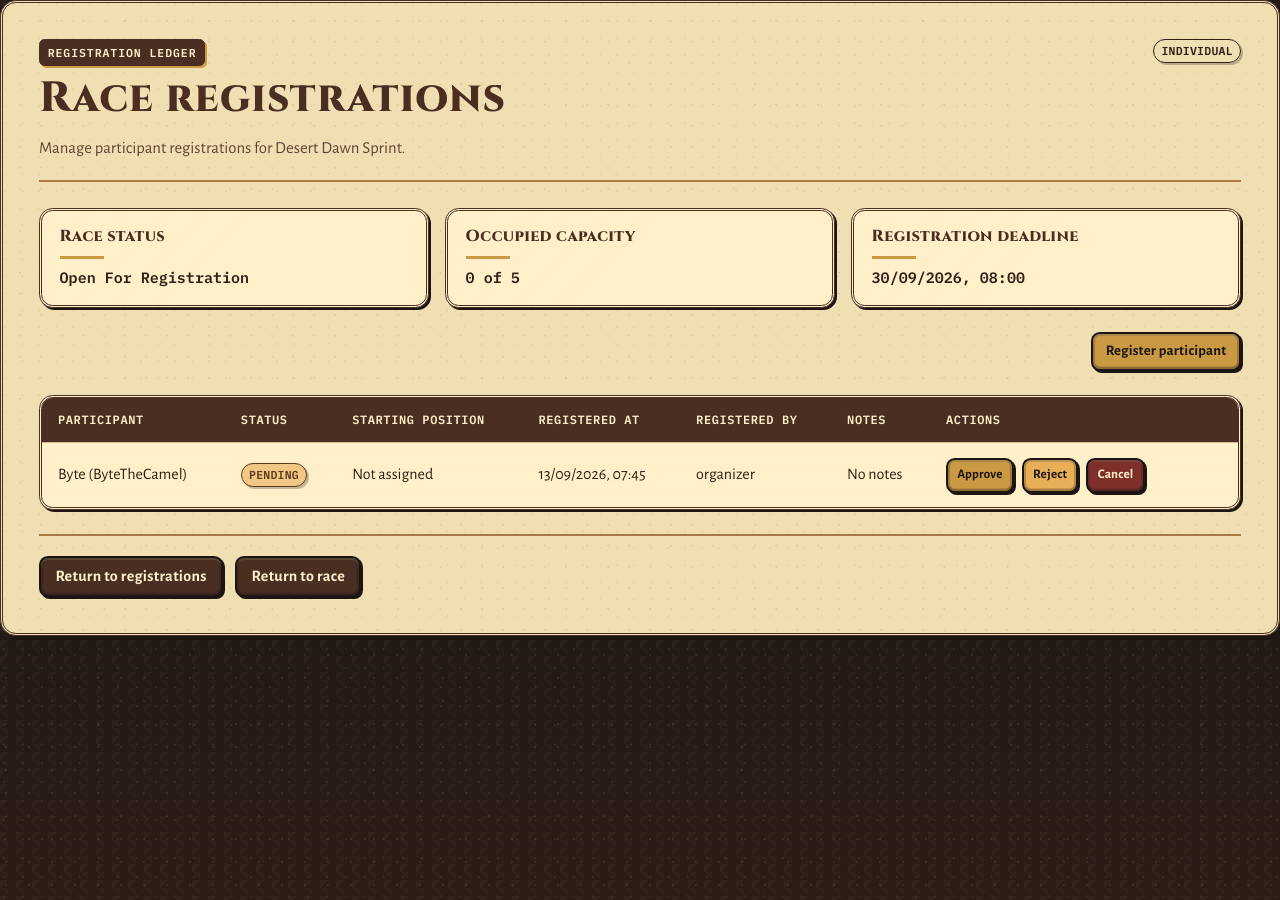
Test: RaceRegistrationsPage › requires starting position before approving a registration
The image size is (1280, 900).
Click the button "Approve": point(980, 475) 946,458 -> 1014,493
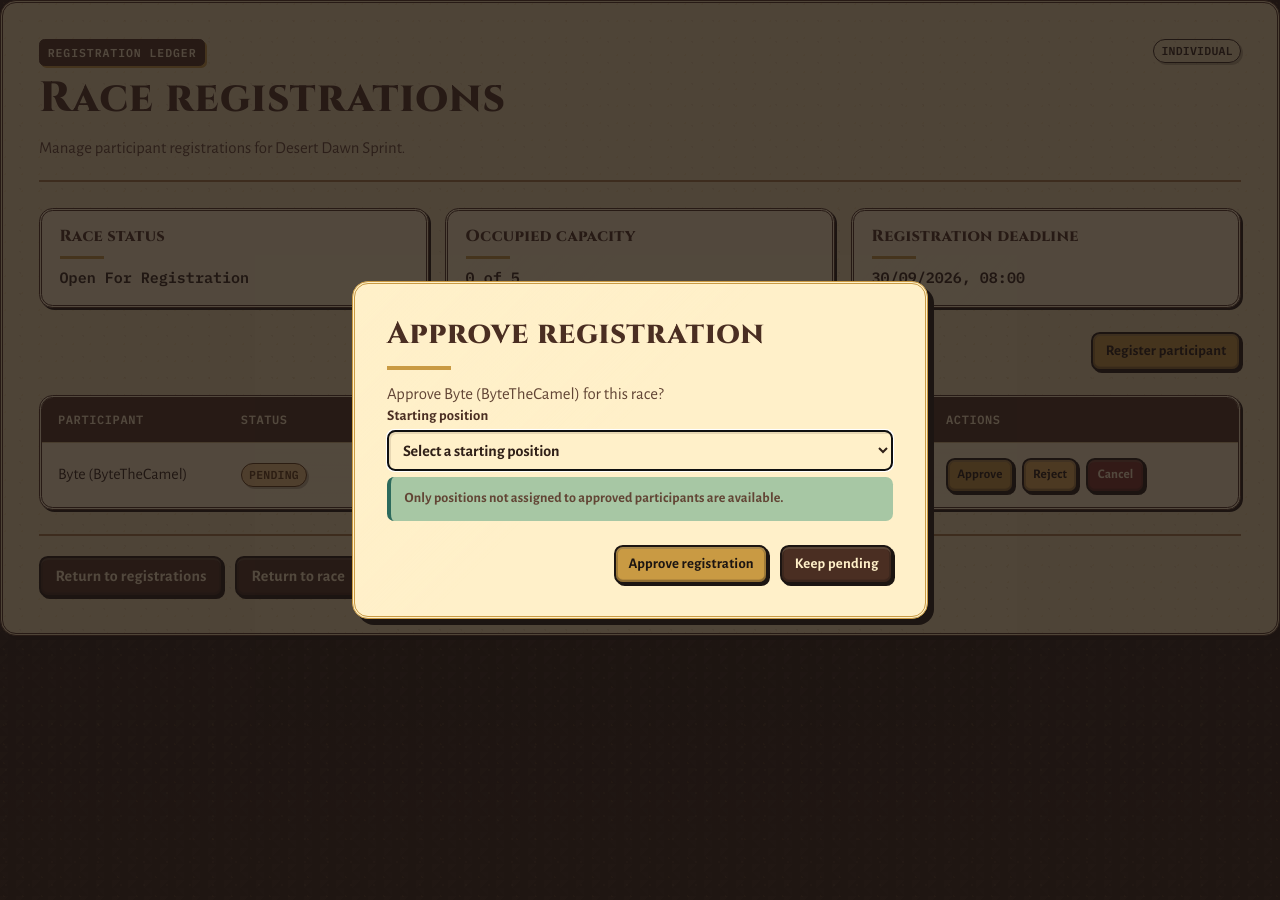
Result: the dialog "Approve registration" is shown at 352,281 -> 928,619
Result: the dropdown labelled "Starting position" is shown at 387,430 -> 893,471
Click the button "Approve registration": point(691, 564) 614,544 -> 768,584
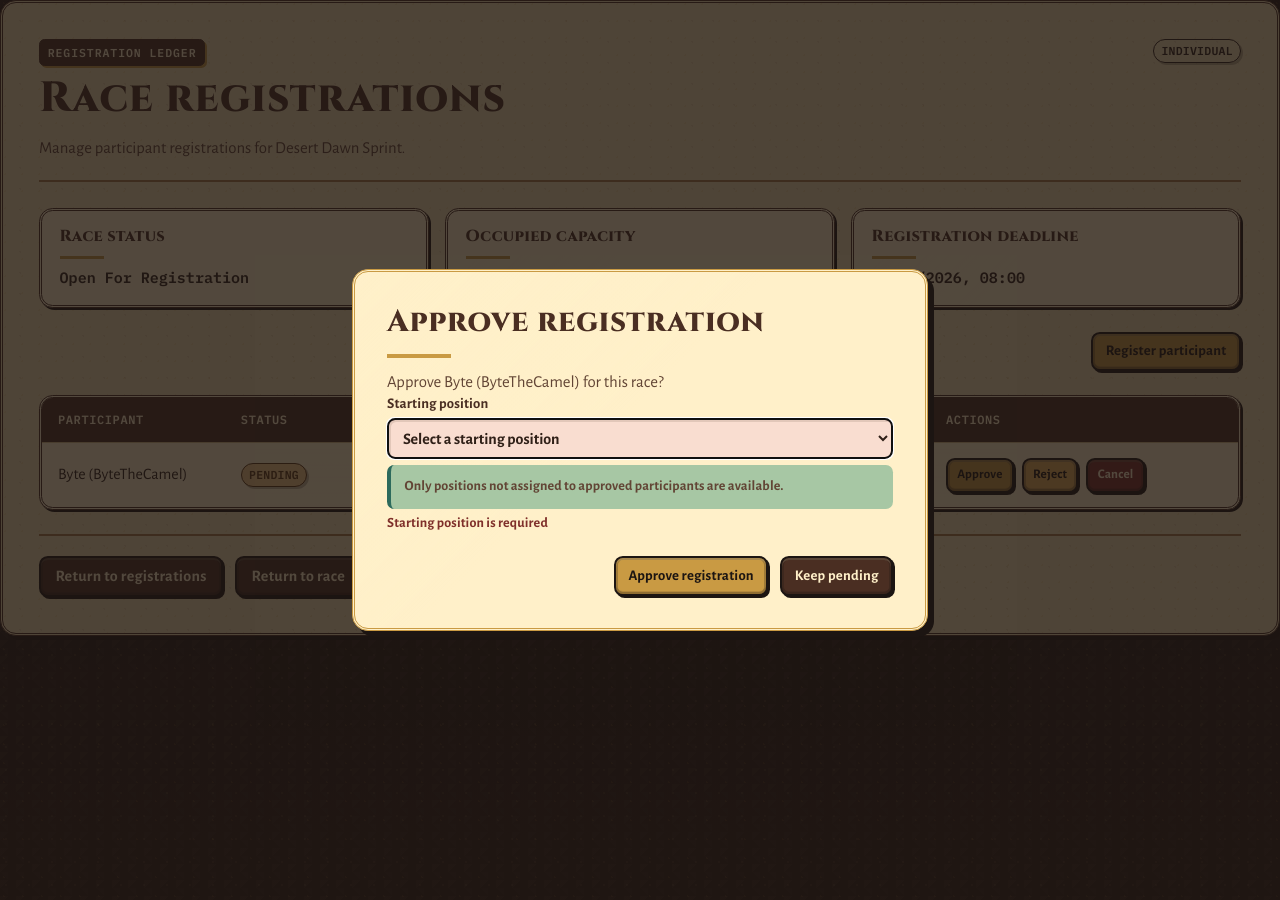
Result: the text "Starting position is required" is shown at 387,516 -> 548,530
